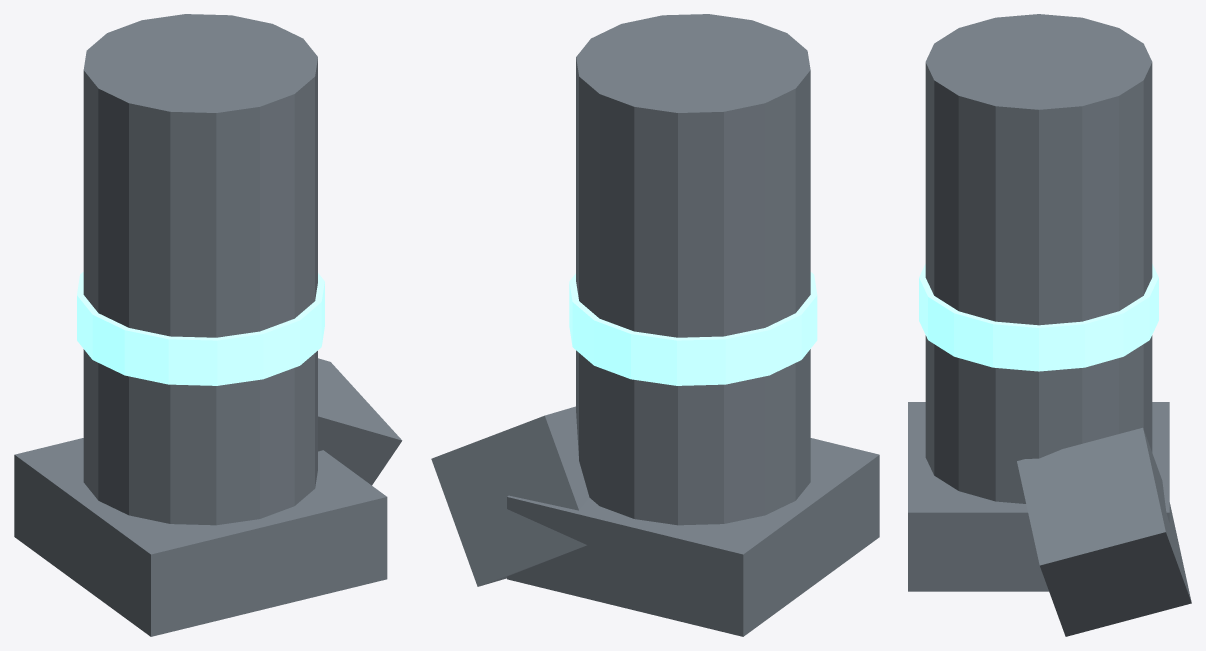
File: modular_pillar_broken.glb
3 views of the same model, side by side, from view 1: azimuth 30°, elevation 25°; view 2: azimuth 150°, elevation 25°; view 3: azimuth 270°, elevation 25° (orthographic). The views are drawn at different scales.
Visible parts, largest first — view 1: Arch_Pillar_Broken; view 2: Arch_Pillar_Broken; view 3: Arch_Pillar_Broken.
Part boxes in pixels (box(x1,y1,x2,y2)): Arch_Pillar_Broken: box(14, 14, 402, 636); Arch_Pillar_Broken: box(431, 14, 879, 636); Arch_Pillar_Broken: box(908, 14, 1191, 636).
Bounding box in the file's own units: 1.63 × 2.57 × 1.3.
